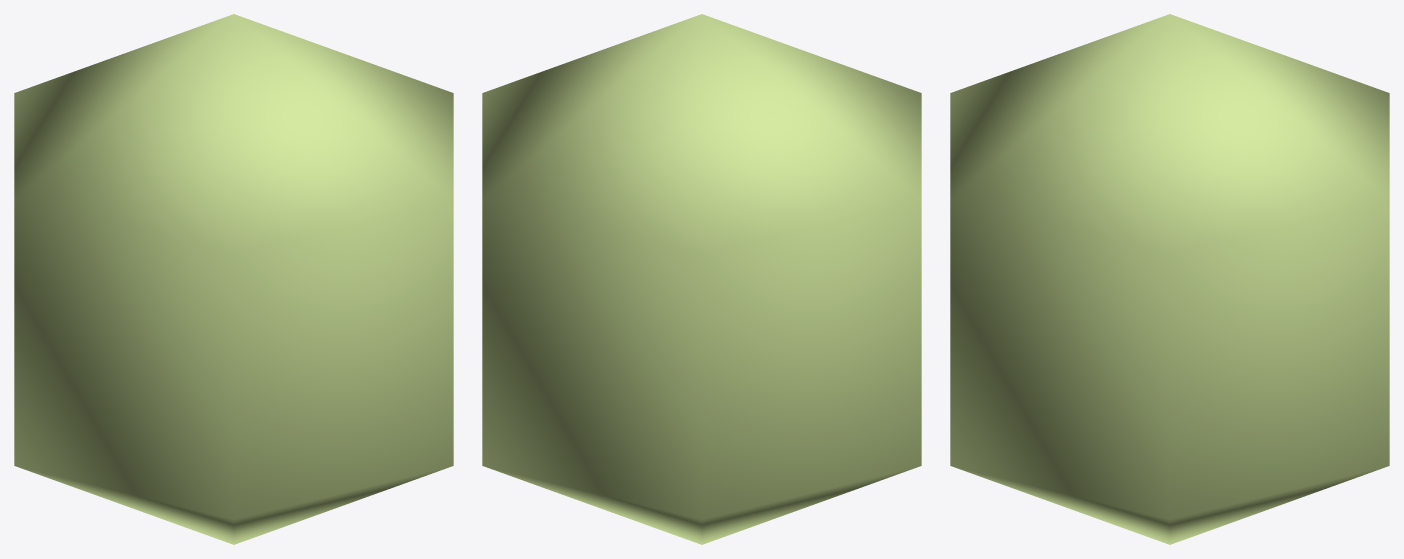
The model's file is Veg_Fruit_Art.fbx.
The picture shows the model from 3 angles, left to right: view 1: azimuth 30°, elevation 25°; view 2: azimuth 150°, elevation 25°; view 3: azimuth 270°, elevation 25°; orthographic projection.
Parts seen in each view (by area): view 1: Veg_Fruit; view 2: Veg_Fruit; view 3: Veg_Fruit.
Part boxes in pixels (x1,y1,x2,y2): Veg_Fruit: (14,14,453,544); Veg_Fruit: (482,14,921,544); Veg_Fruit: (950,14,1389,544).
Bounding box in the file's own units: 21.33 × 24.62 × 18.47.
